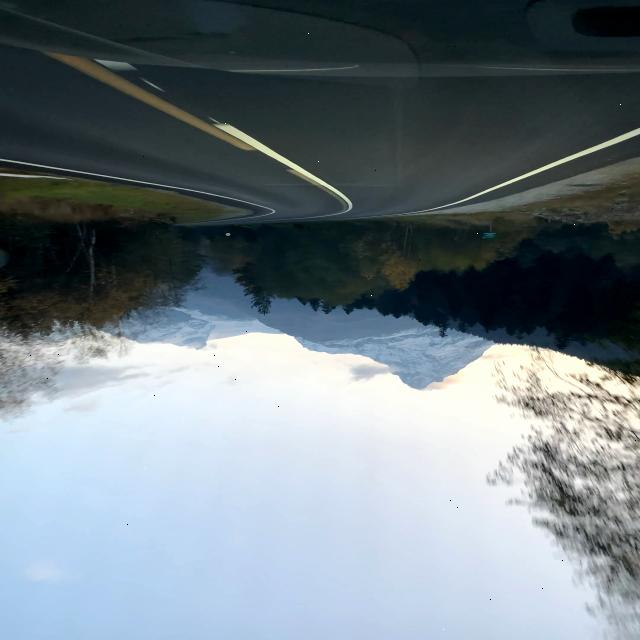lane: (391, 128, 640, 215), (216, 124, 329, 185), (329, 186, 351, 214)
road: (1, 2, 639, 221)
